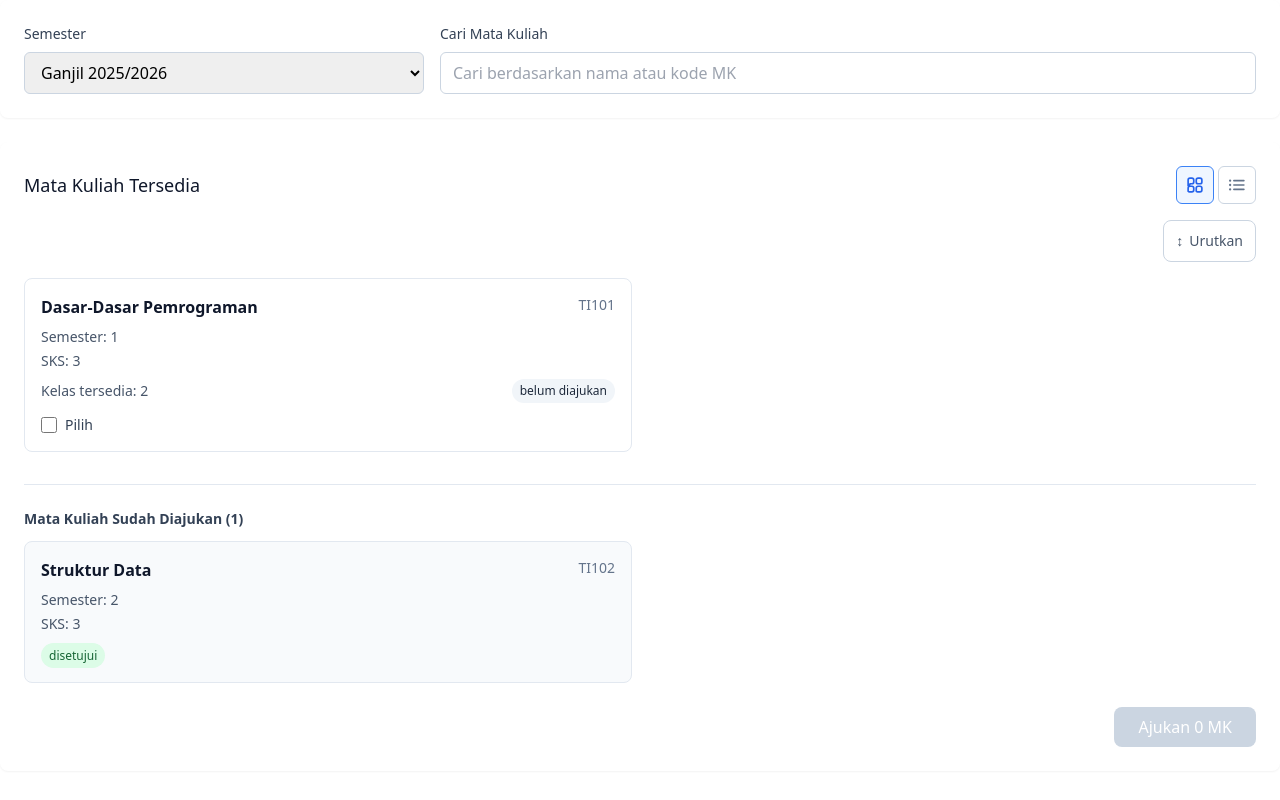
DosenSelectMK (T3.9 — semester dari /dosen/semesters + search 3 huruf) › submit gagal VALIDATION_ERROR → tampilkan pesan API
Expected: the heading "Dasar-Dasar Pemrograman" is shown, [41,295,258,319]
Click the checkbox.
click(49, 425)  # box [41,417,57,433]
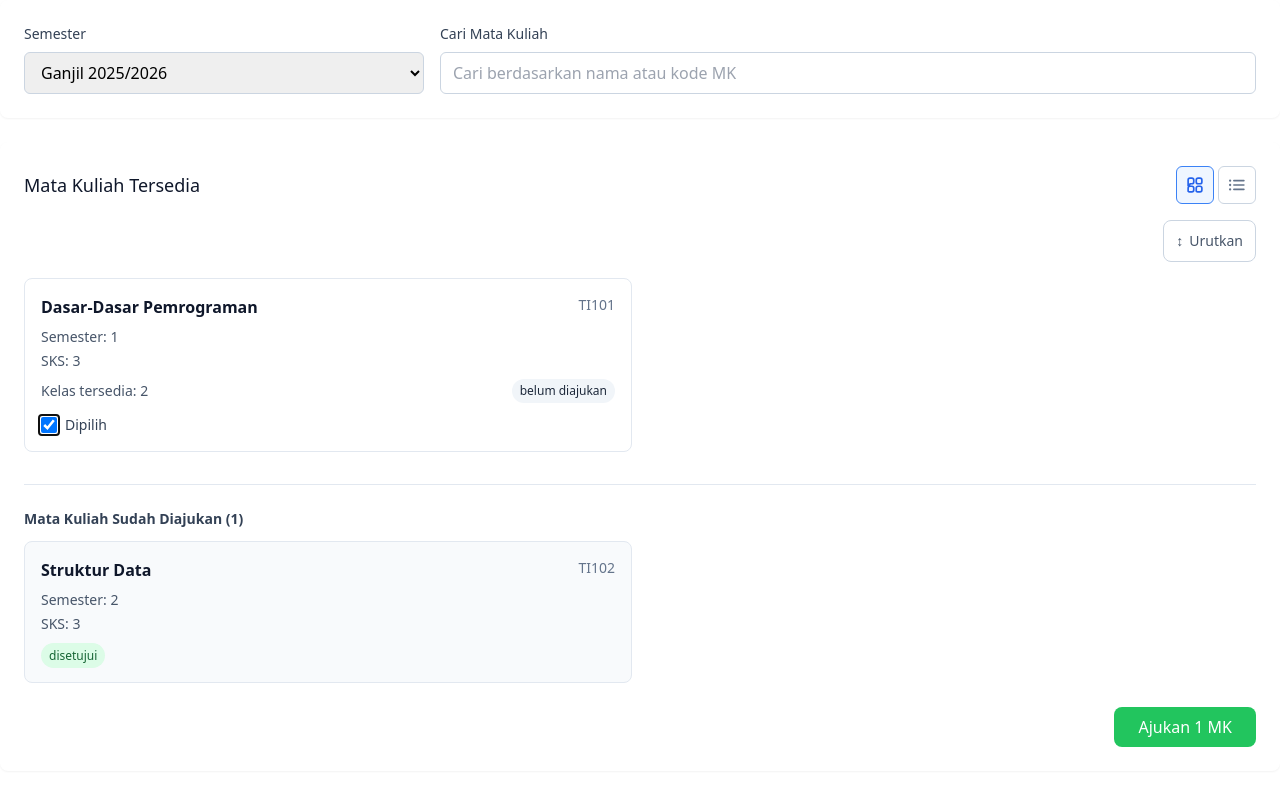
Click the button "Ajukan 1 MK".
click(1185, 727)  # box [1114,707,1256,747]
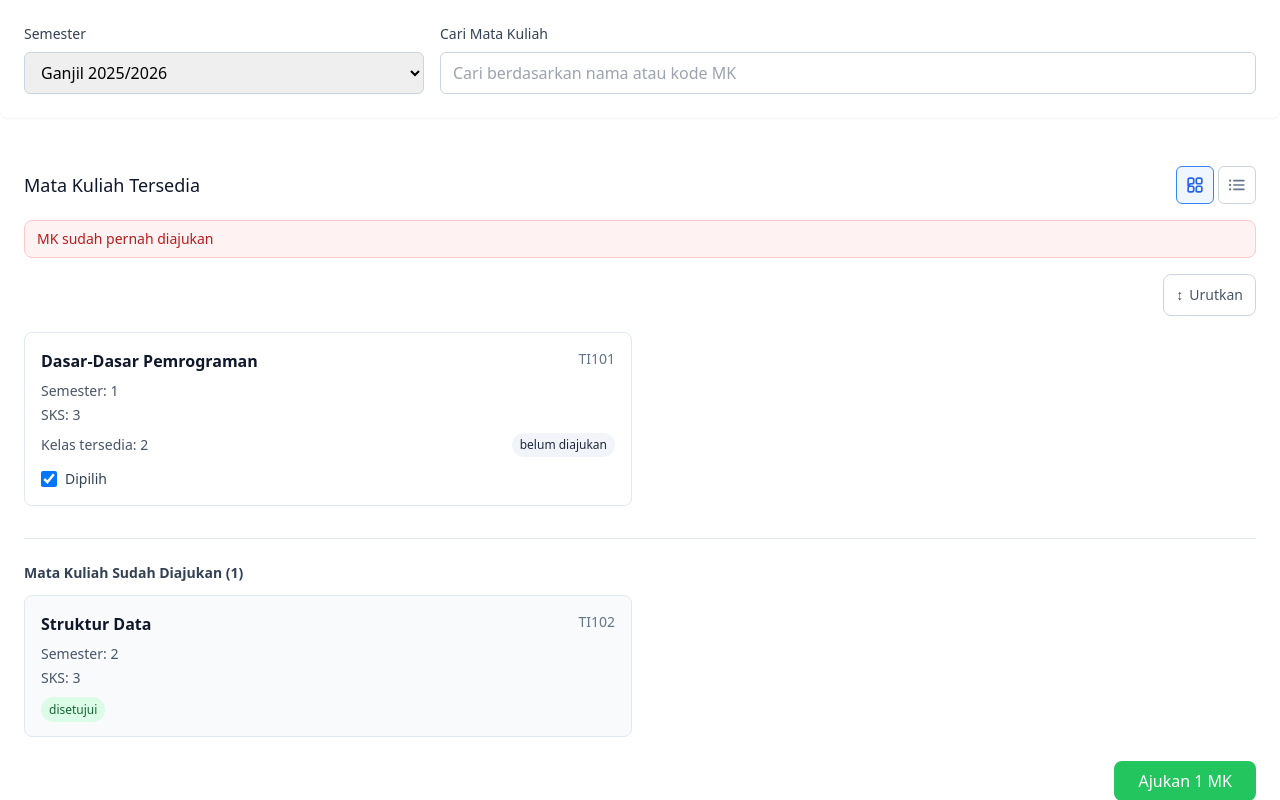
Expected: the message reads "MK sudah pernah diajukan", [37,229,214,248]
